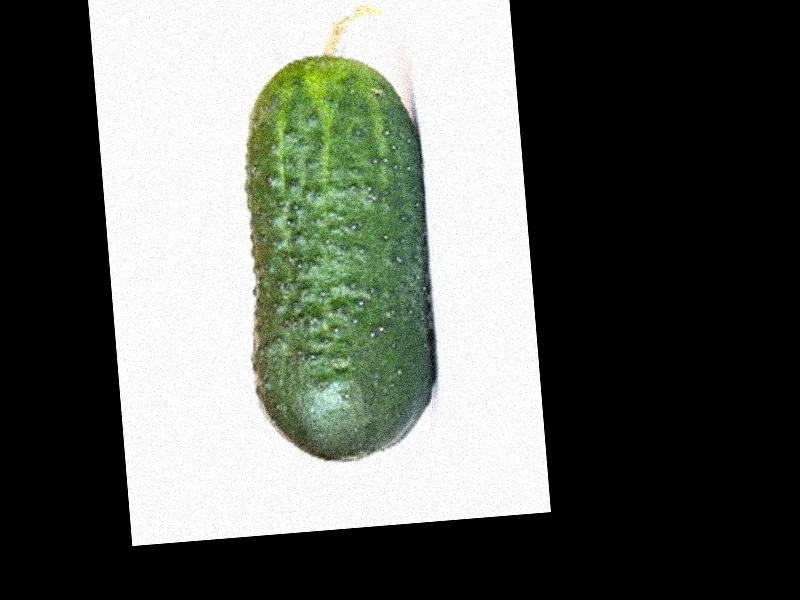Cucumber: (221, 0, 446, 466)
